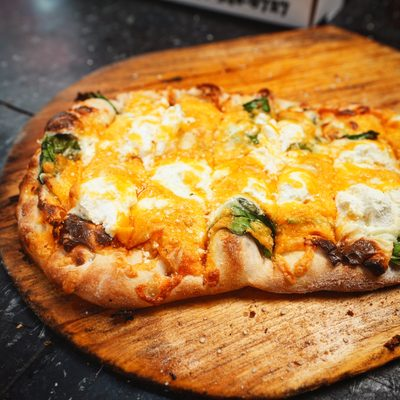sandwich: (6, 65, 399, 313)
